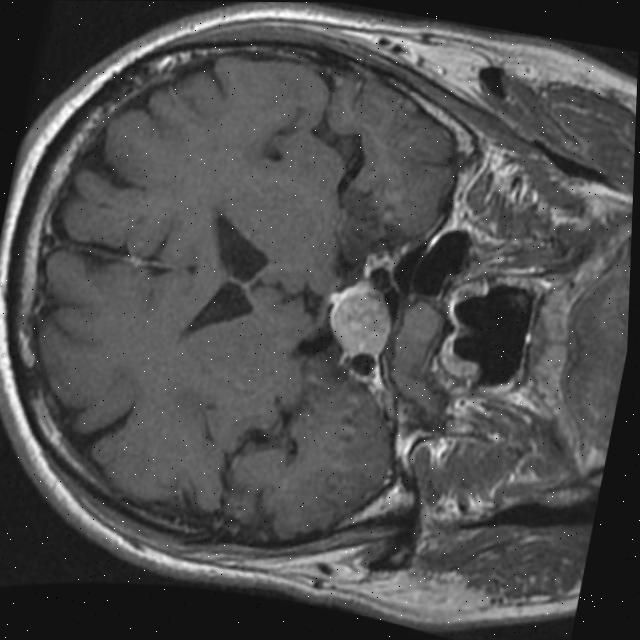Pituitary: (320, 277, 400, 361)
